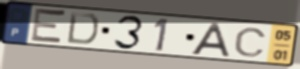1: (151, 17, 170, 53)
3: (109, 14, 147, 51)
A: (189, 22, 233, 59)
C: (232, 26, 269, 58)
D: (65, 10, 101, 47)
E: (29, 6, 69, 46)
